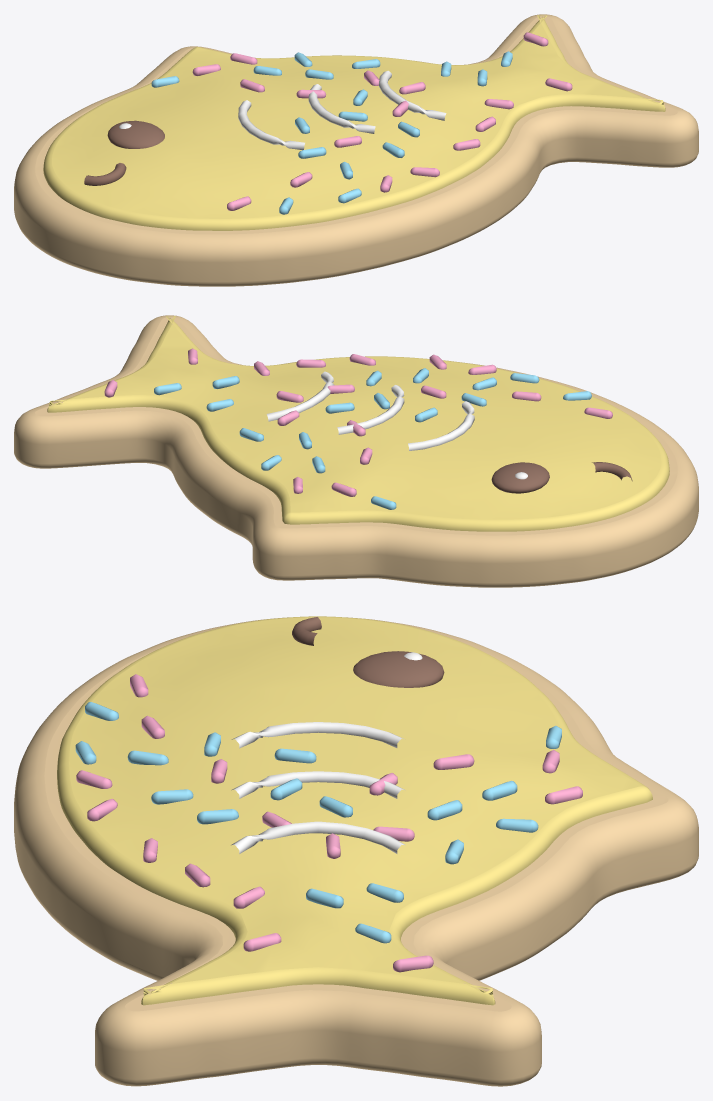
File: FishCookie.glb
3 renders of one model, top to bottom at view 1: azimuth 30°, elevation 25°; view 2: azimuth 150°, elevation 25°; view 3: azimuth 270°, elevation 25°, orthographic. The views are drawn at different scales.
Visible parts, largest first — view 1: Icing, Cookie, Sprinkles, Sprinkles2, Dots, Face; view 2: Icing, Cookie, Sprinkles2, Sprinkles, Dots, Face; view 3: Icing, Cookie, Sprinkles2, Sprinkles, Dots, Face.
Part boxes in pixels (box(x1,y1,x2,y2)): Icing: box(43, 15, 665, 230); Cookie: box(14, 14, 698, 286); Sprinkles: box(192, 32, 572, 210); Sprinkles2: box(151, 51, 512, 214); Dots: box(238, 70, 446, 150); Face: box(84, 120, 164, 185); Icing: box(47, 316, 669, 531); Cookie: box(14, 315, 698, 587); Sprinkles2: box(154, 368, 591, 509); Sprinkles: box(104, 348, 612, 496); Dots: box(266, 371, 474, 450); Face: box(491, 462, 632, 493); Icing: box(57, 616, 652, 1005); Cookie: box(14, 617, 698, 1086); Sprinkles2: box(75, 702, 561, 943); Sprinkles: box(76, 674, 582, 972); Dots: box(231, 722, 405, 853); Face: box(292, 617, 444, 687).
Size of the model in its own units: 9.75 by 1.14 by 6.75.
